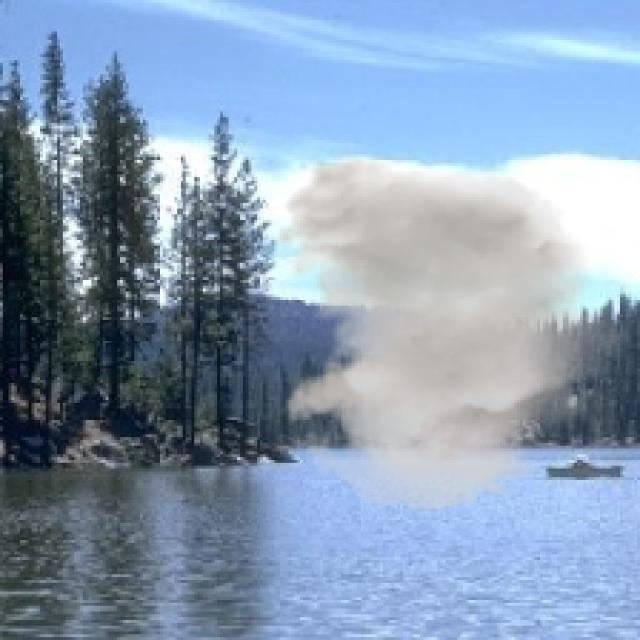Smoke: (272, 157, 637, 512)
